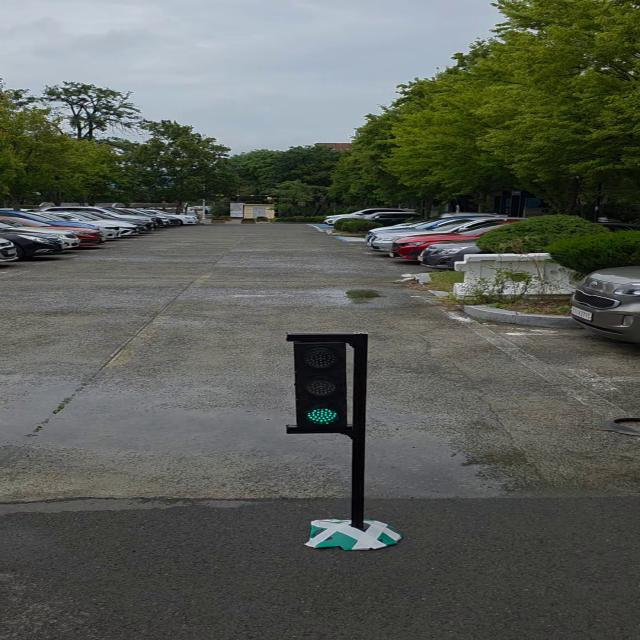green: (298, 338, 366, 432)
